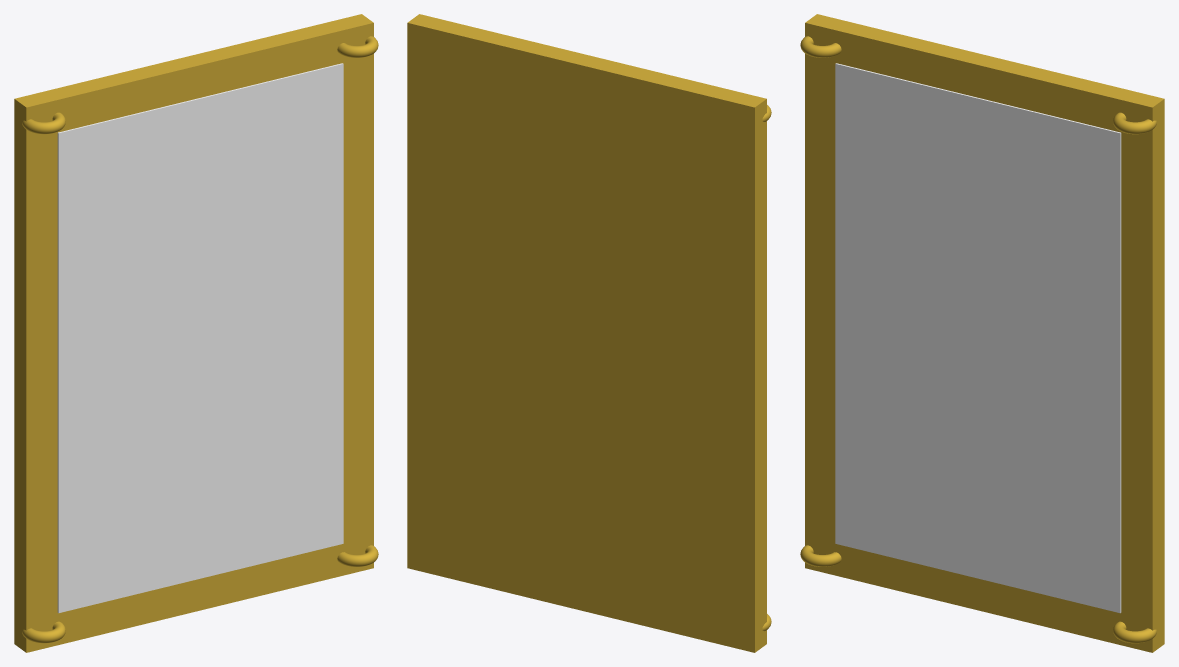
Rendered from state-default.glb.
3 views of the same model, side by side, from view 1: azimuth 30°, elevation 25°; view 2: azimuth 150°, elevation 25°; view 3: azimuth 330°, elevation 25° (orthographic).
Parts seen in each view (by area): view 1: assetPrim:ba2c0f11cedef-19c743507ed:mirror-glass, assetPrim:ba2c0f11cedef-19c743507ed:mirror-frame-main, assetPrim:ba2c0f11cedef-19c743507ed:corner-decoration-bl, assetPrim:ba2c0f11cedef-19c743507ed:corner-decoration-tl, assetPrim:ba2c0f11cedef-19c743507ed:corner-decoration-tr, assetPrim:ba2c0f11cedef-19c743507ed:corner-decoration-br; view 2: assetPrim:ba2c0f11cedef-19c743507ed:mirror-frame-main; view 3: assetPrim:ba2c0f11cedef-19c743507ed:mirror-glass, assetPrim:ba2c0f11cedef-19c743507ed:mirror-frame-main, assetPrim:ba2c0f11cedef-19c743507ed:corner-decoration-br, assetPrim:ba2c0f11cedef-19c743507ed:corner-decoration-tr, assetPrim:ba2c0f11cedef-19c743507ed:corner-decoration-tl, assetPrim:ba2c0f11cedef-19c743507ed:corner-decoration-bl.
Boxes of the visible parts, bbox=[...] form: assetPrim:ba2c0f11cedef-19c743507ed:mirror-glass: bbox=[57, 63, 343, 613]; assetPrim:ba2c0f11cedef-19c743507ed:mirror-frame-main: bbox=[14, 14, 373, 652]; assetPrim:ba2c0f11cedef-19c743507ed:corner-decoration-bl: bbox=[22, 621, 65, 643]; assetPrim:ba2c0f11cedef-19c743507ed:corner-decoration-tl: bbox=[22, 112, 65, 134]; assetPrim:ba2c0f11cedef-19c743507ed:corner-decoration-tr: bbox=[337, 36, 378, 57]; assetPrim:ba2c0f11cedef-19c743507ed:corner-decoration-br: bbox=[337, 545, 378, 566]; assetPrim:ba2c0f11cedef-19c743507ed:mirror-frame-main: bbox=[407, 14, 766, 652]; assetPrim:ba2c0f11cedef-19c743507ed:mirror-glass: bbox=[835, 63, 1121, 613]; assetPrim:ba2c0f11cedef-19c743507ed:mirror-frame-main: bbox=[805, 14, 1164, 652]; assetPrim:ba2c0f11cedef-19c743507ed:corner-decoration-br: bbox=[1113, 621, 1156, 643]; assetPrim:ba2c0f11cedef-19c743507ed:corner-decoration-tr: bbox=[1113, 112, 1156, 134]; assetPrim:ba2c0f11cedef-19c743507ed:corner-decoration-tl: bbox=[800, 36, 841, 57]; assetPrim:ba2c0f11cedef-19c743507ed:corner-decoration-bl: bbox=[800, 545, 841, 566].
Bounding box in the file's own units: 1.01 × 1.5 × 0.115.
